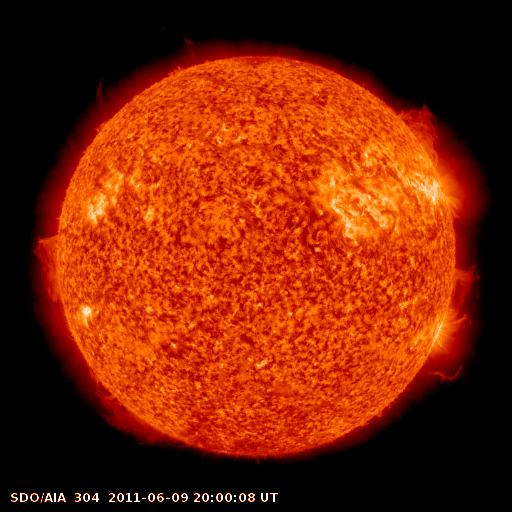prominence: (420, 262, 487, 389), (80, 373, 182, 453), (394, 97, 453, 166), (29, 231, 78, 305)
